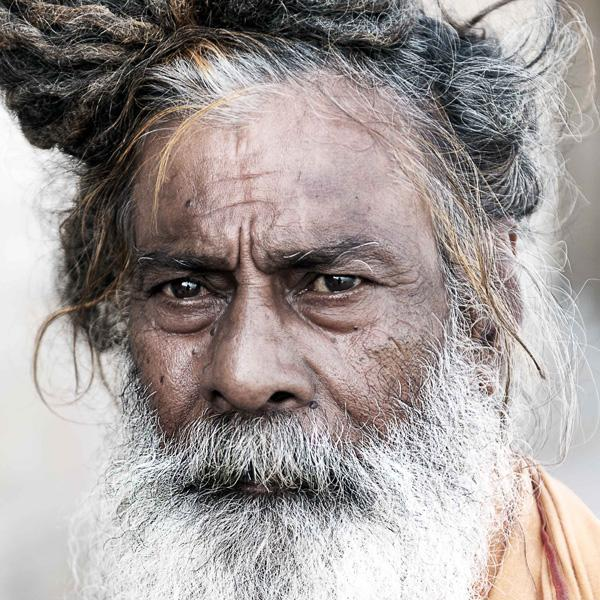Eyes: (139, 262, 231, 323), (286, 258, 387, 308)
